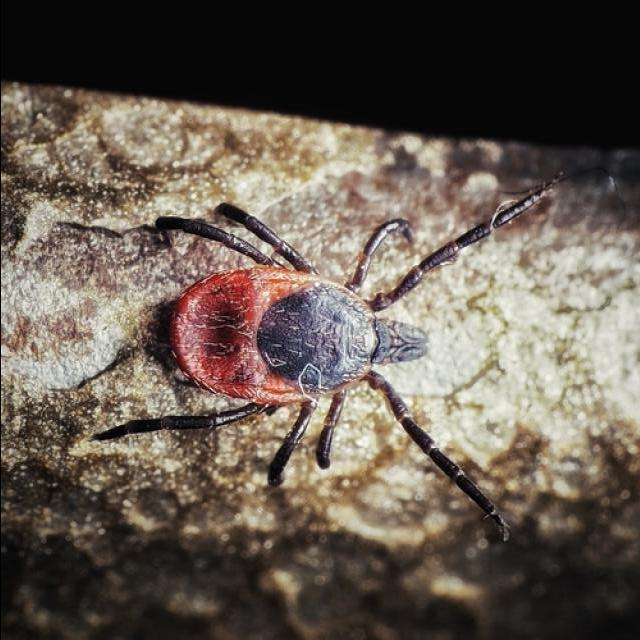Ixodes Ricinus-F: (91, 174, 561, 539)
